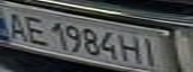1: (42, 19, 66, 51)
4: (96, 29, 121, 62)
8: (78, 26, 103, 57)
9: (60, 22, 84, 54)
A: (0, 9, 33, 42)
E: (18, 12, 51, 46)
H: (118, 33, 145, 65)
I: (136, 34, 166, 68)
